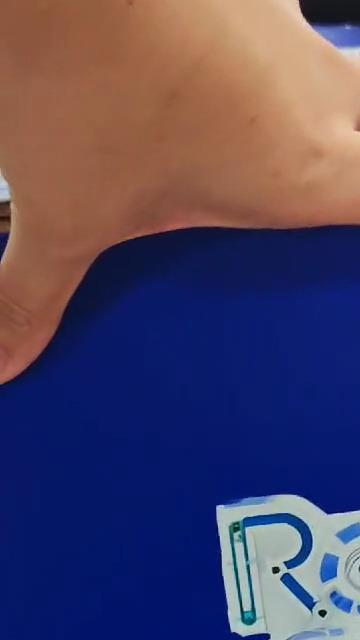B_R1: (42, 461, 360, 640)
